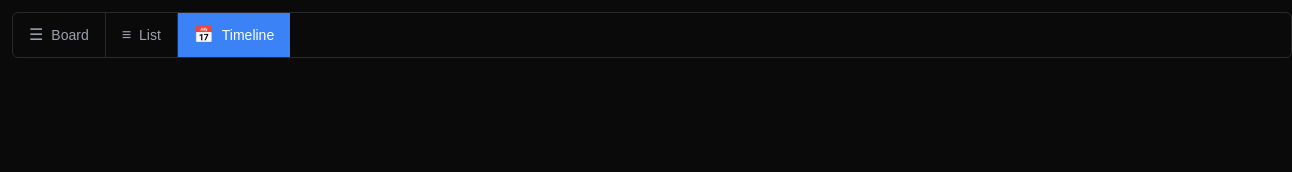
Scenario: ViewSwitcher › view switching › should switch to board view on click
Click the tab "☰ Board" at point(59, 35), box [13,13,106,57]
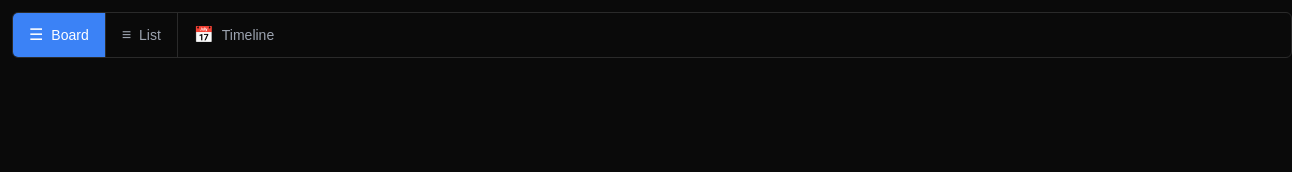
Expected: the tab "☰ Board" is selected, [13,13,106,57]
Expected: the tab "☰ Board" has class "active", [13,13,106,57]
